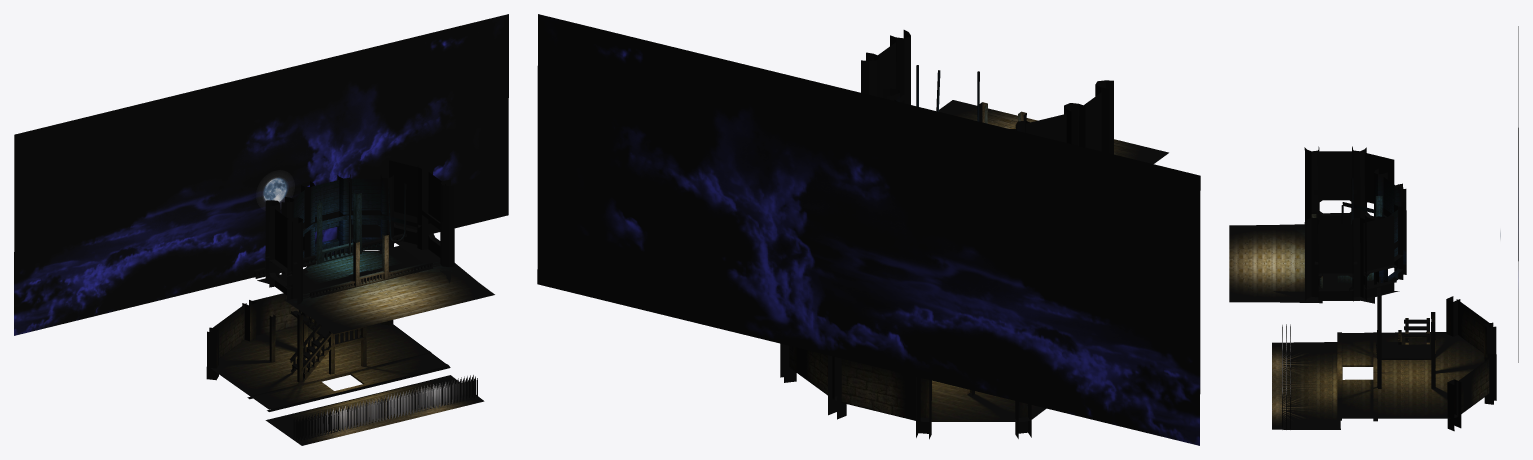
Rendered from UMK3iOSBellTower.glb.
The picture shows the model from 3 angles, left to right: view 1: azimuth 30°, elevation 25°; view 2: azimuth 150°, elevation 25°; view 3: azimuth 270°, elevation 25°; orthographic projection. The views are drawn at different scales.
Visible parts, largest first — view 1: 4_Plane001, 6_basement_back, 3_Object045, 5_newfloor, 7_FLOOR, 2_Object044, 1_polySurface125, 0_far_floor, 8_Plane002, 9_Alpha_Moon; view 2: 4_Plane001, 6_basement_back, 3_Object045, 5_newfloor; view 3: 6_basement_back, 3_Object045, 5_newfloor, 7_FLOOR, 2_Object044, 1_polySurface125, 8_Plane002, 4_Plane001.
Boxes of the visible parts, box(x1,y1,x2,y2) form: 4_Plane001: box(14, 14, 508, 335); 6_basement_back: box(206, 293, 450, 411); 3_Object045: box(265, 160, 454, 304); 5_newfloor: box(283, 261, 494, 334); 7_FLOOR: box(265, 375, 484, 445); 2_Object044: box(281, 173, 421, 274); 1_polySurface125: box(253, 181, 406, 278); 0_far_floor: box(303, 251, 401, 283); 8_Plane002: box(257, 245, 423, 293); 9_Alpha_Moon: box(262, 177, 288, 202); 4_Plane001: box(537, 14, 1200, 445); 6_basement_back: box(780, 343, 1046, 439); 3_Object045: box(861, 30, 1113, 154); 5_newfloor: box(939, 100, 1168, 163); 6_basement_back: box(1337, 295, 1496, 431); 3_Object045: box(1273, 146, 1399, 301); 5_newfloor: box(1229, 224, 1322, 303); 7_FLOOR: box(1272, 324, 1340, 429); 2_Object044: box(1342, 169, 1406, 284); 1_polySurface125: box(1341, 178, 1382, 300); 8_Plane002: box(1322, 275, 1374, 303); 4_Plane001: box(1518, 26, 1518, 362).
Size of the model in its own units: 100 by 50.28 by 52.13.
10 materials, 10 textured.
